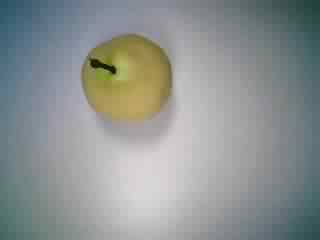pear: (72, 24, 178, 131)
